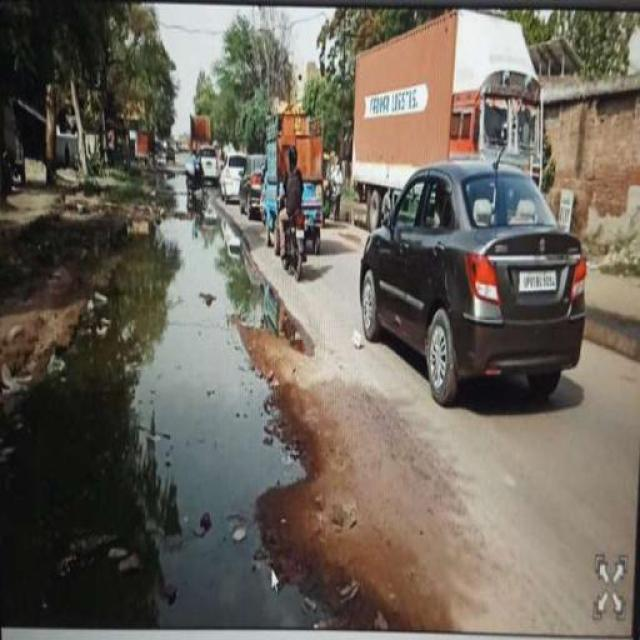puddle: (7, 393, 298, 614), (93, 267, 237, 469), (35, 218, 250, 314)
